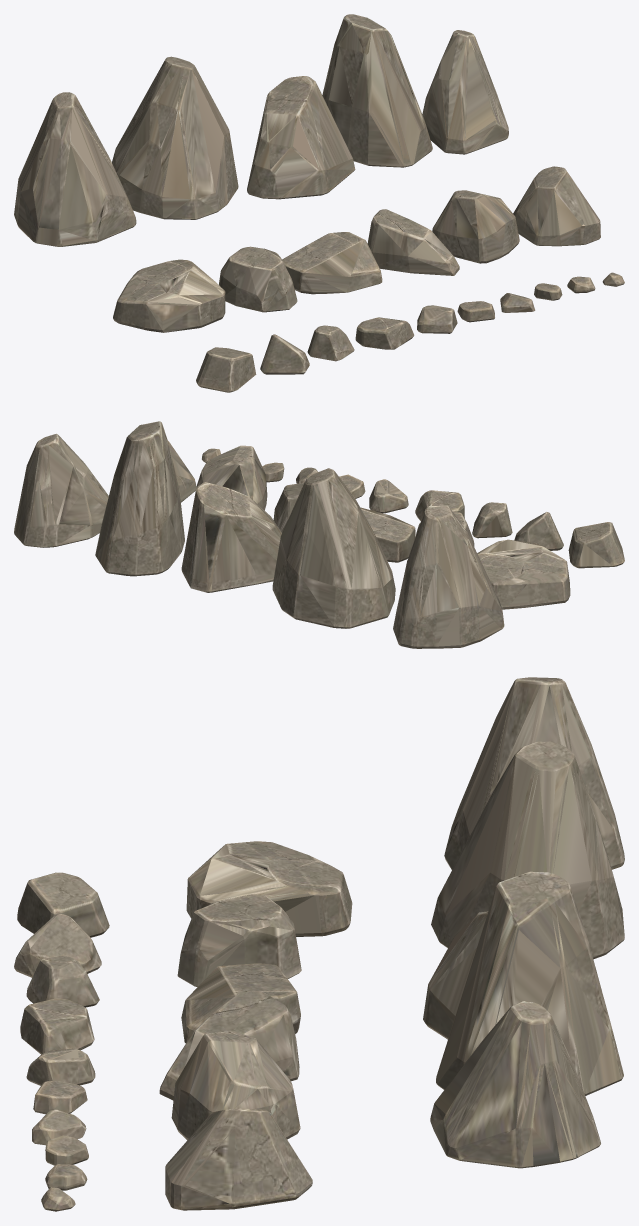
File: Set_Rocas_Rectanculares_Piezas_1K_closed.glb
3 views of the same model, one above another, from view 1: azimuth 30°, elevation 25°; view 2: azimuth 150°, elevation 25°; view 3: azimuth 270°, elevation 25° (orthographic). The views are drawn at different scales.
Parts seen in each view (by area): view 1: rect_rock_01_column, rect_rock_00_column, rect_rock_03_column, rect_rock_02_column, rect_rock_04_column, rect_rock_05_block, rect_rock_10_block, rect_rock_09_block, rect_rock_07_block, rect_rock_08_block, rect_rock_06_block, rect_rock_11_boulder (+6 smaller); view 2: rect_rock_01_column, rect_rock_00_column, rect_rock_03_column, rect_rock_02_column, rect_rock_04_column, rect_rock_05_block, rect_rock_09_block, rect_rock_11_boulder, rect_rock_07_block, rect_rock_13_boulder, rect_rock_12_boulder, rect_rock_15_boulder (+5 smaller); view 3: rect_rock_03_column, rect_rock_01_column, rect_rock_04_column, rect_rock_10_block, rect_rock_00_column, rect_rock_05_block, rect_rock_09_block, rect_rock_06_block, rect_rock_08_block, rect_rock_07_block, rect_rock_11_boulder, rect_rock_02_column (+8 smaller).
Boxes of the visible parts, bbox=[...] form: rect_rock_01_column: bbox=[112, 56, 238, 219]; rect_rock_00_column: bbox=[14, 92, 136, 246]; rect_rock_03_column: bbox=[322, 14, 432, 167]; rect_rock_02_column: bbox=[247, 76, 355, 199]; rect_rock_04_column: bbox=[422, 30, 508, 154]; rect_rock_05_block: bbox=[113, 259, 225, 332]; rect_rock_10_block: bbox=[513, 166, 600, 246]; rect_rock_09_block: bbox=[432, 190, 519, 263]; rect_rock_07_block: bbox=[282, 232, 382, 294]; rect_rock_08_block: bbox=[367, 209, 459, 275]; rect_rock_06_block: bbox=[219, 246, 297, 312]; rect_rock_11_boulder: bbox=[196, 347, 256, 392]; rect_rock_01_column: bbox=[272, 468, 395, 628]; rect_rock_00_column: bbox=[393, 505, 504, 648]; rect_rock_03_column: bbox=[95, 421, 184, 576]; rect_rock_02_column: bbox=[181, 482, 281, 592]; rect_rock_04_column: bbox=[14, 433, 108, 547]; rect_rock_05_block: bbox=[477, 539, 570, 609]; rect_rock_09_block: bbox=[196, 445, 267, 510]; rect_rock_11_boulder: bbox=[568, 522, 624, 568]; rect_rock_07_block: bbox=[360, 507, 415, 562]; rect_rock_13_boulder: bbox=[472, 502, 512, 538]; rect_rock_12_boulder: bbox=[514, 512, 563, 550]; rect_rock_15_boulder: bbox=[369, 479, 408, 513]; rect_rock_03_column: bbox=[436, 871, 623, 1095]; rect_rock_01_column: bbox=[431, 741, 624, 959]; rect_rock_04_column: bbox=[430, 1001, 600, 1168]; rect_rock_10_block: bbox=[165, 1108, 312, 1210]; rect_rock_00_column: bbox=[444, 677, 624, 869]; rect_rock_05_block: bbox=[186, 841, 352, 936]; rect_rock_09_block: bbox=[171, 1031, 300, 1140]; rect_rock_06_block: bbox=[177, 894, 301, 986]; rect_rock_08_block: bbox=[159, 990, 299, 1100]; rect_rock_07_block: bbox=[181, 963, 300, 1043]; rect_rock_11_boulder: bbox=[17, 872, 109, 937]; rect_rock_02_column: bbox=[423, 911, 488, 1039].
Size of the model in its own units: 0.9995 by 0.353 by 0.7397.
1 material, 1 textured.
